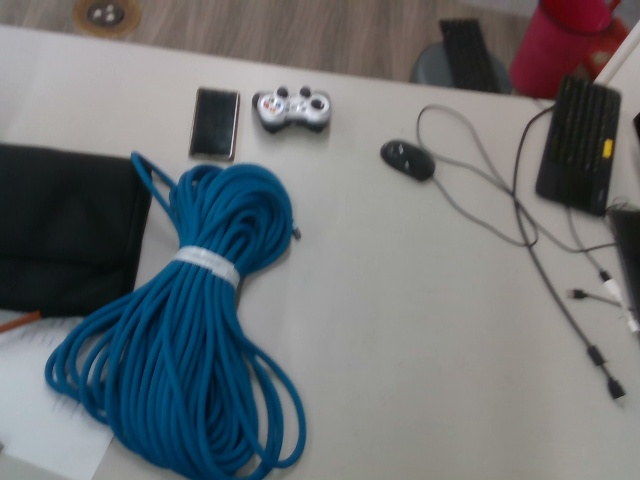rope: (42, 149, 308, 480)
